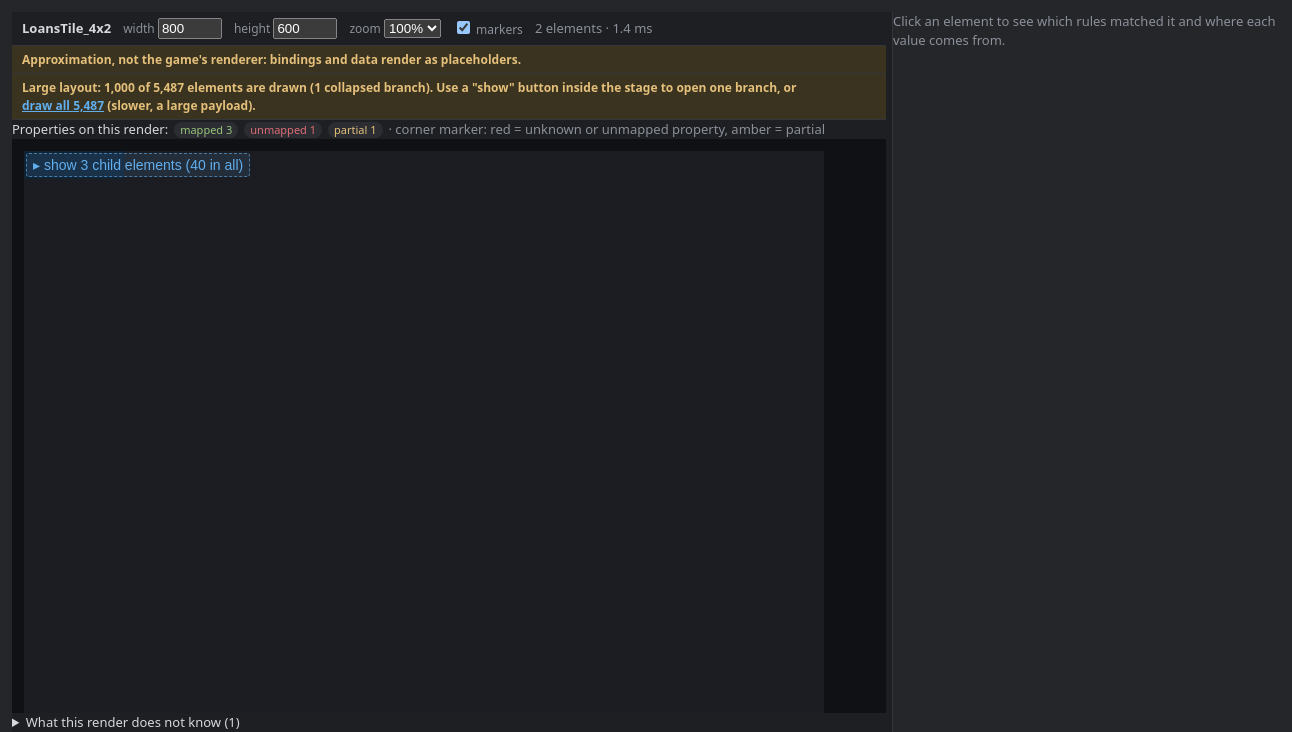
Scenario: large layouts (M8) › says how much of a capped layout is drawn and opens one collapsed branch by its path
Check: the message with test id "truncated" shows "1,000 of 5,487", box [12, 74, 886, 120]
Click the button with test id "rmore" at [138, 165], box [26, 153, 250, 177]
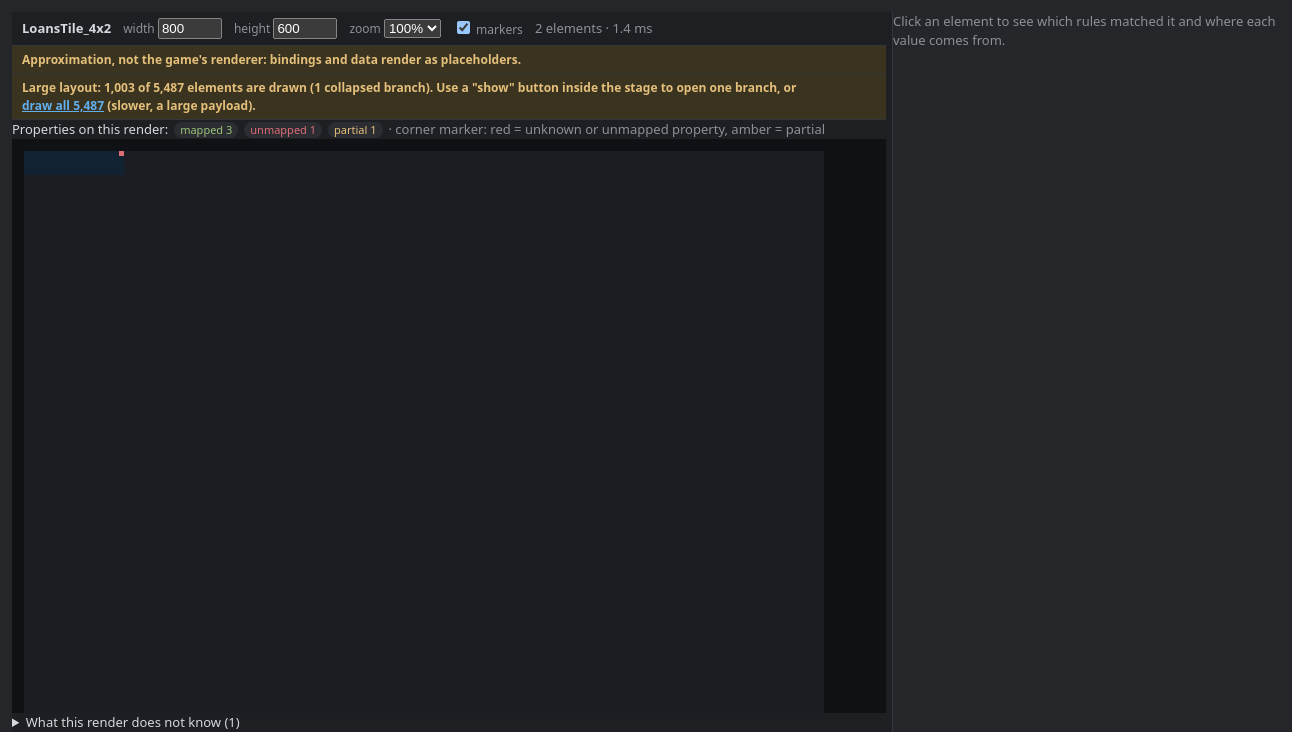
Check: the button with test id "rmore" is gone
Check: the number of elements with class "rnode" is 2, box [24, 151, 124, 175]; [24, 151, 124, 175]
